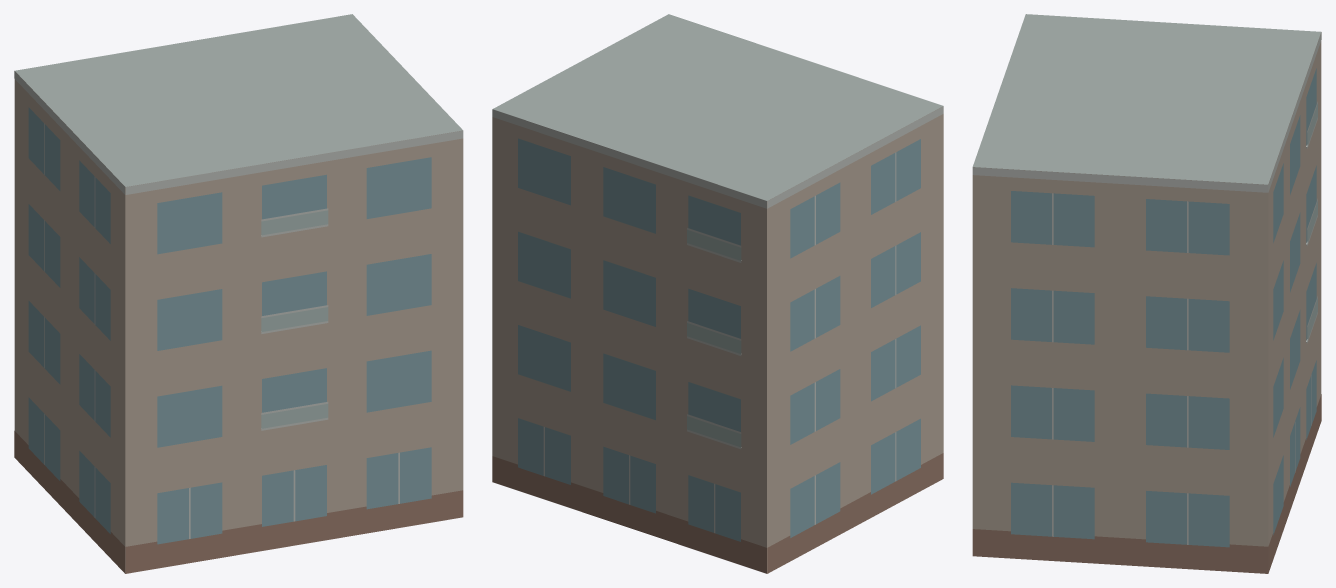
Rendered from survey-upis-32522777.glb.
3 views of the same model, side by side, from view 1: azimuth 30°, elevation 25°; view 2: azimuth 150°, elevation 25°; view 3: azimuth 270°, elevation 25° (orthographic). The views are drawn at different scales.
Parts seen in each view (by area): view 1: survey-upis-32522777.tmp; view 2: survey-upis-32522777.tmp; view 3: survey-upis-32522777.tmp.
Part boxes in pixels (x1=…): survey-upis-32522777.tmp: x1=14, y1=14, x2=463, y2=573; survey-upis-32522777.tmp: x1=492, y1=14, x2=943, y2=573; survey-upis-32522777.tmp: x1=972, y1=14, x2=1321, y2=573.
Size of the model in its own units: 11.01 by 11.7 by 9.51.
